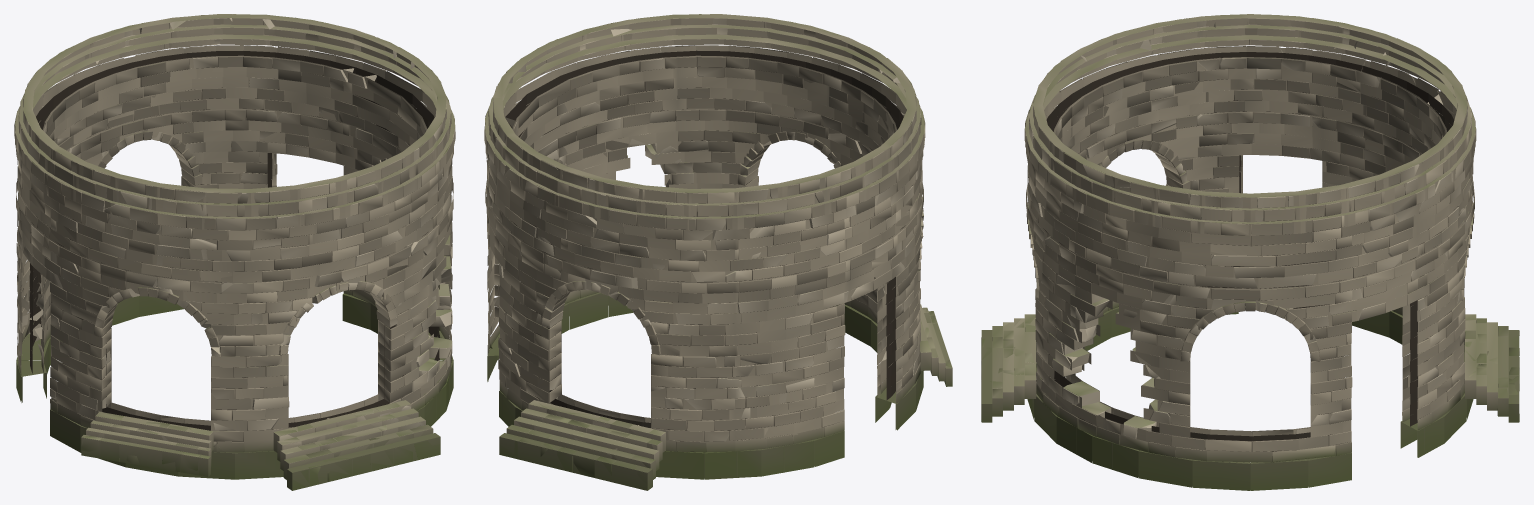
Rendered from baths_rotunda_cut.glb.
3 views of the same model, side by side, from view 1: azimuth 30°, elevation 25°; view 2: azimuth 150°, elevation 25°; view 3: azimuth 270°, elevation 25° (orthographic). The views are drawn at different scales.
Visible parts, largest first — view 1: baths_rotunda_cut, baths_rotunda_cut_far; view 2: baths_rotunda_cut, baths_rotunda_cut_far; view 3: baths_rotunda_cut, baths_rotunda_cut_far.
Part boxes in pixels (<box>): baths_rotunda_cut: <box>14,14,455,490</box>; baths_rotunda_cut_far: <box>15,14,454,490</box>; baths_rotunda_cut: <box>484,14,951,483</box>; baths_rotunda_cut_far: <box>485,14,952,490</box>; baths_rotunda_cut: <box>981,14,1519,490</box>; baths_rotunda_cut_far: <box>981,14,1519,489</box>.
Size of the model in its own units: 77.15 by 53.4 by 89.62.
